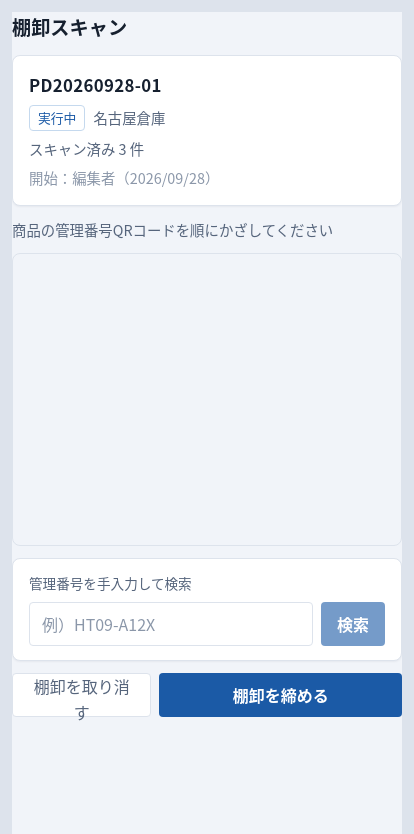
Test: stocktake session (M3-6) › shows the repeated note without incrementing the count
This screenshot has width=414, height=834.
In the field with id "stocktake-manual-input": [171, 624] box [29,602,313,646], type "HT09-A1X"
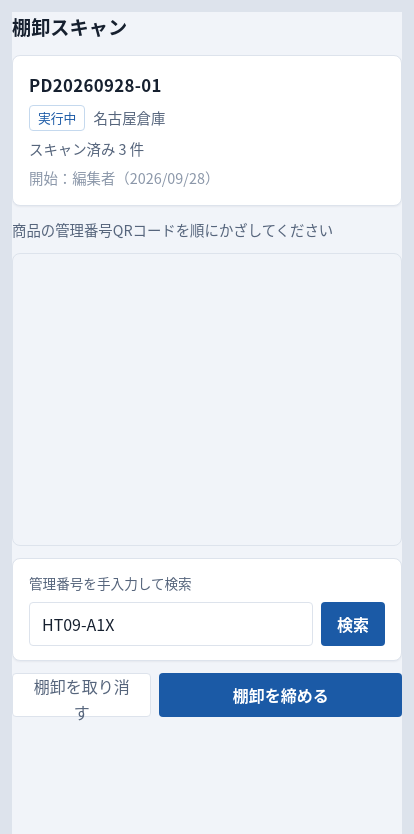
Submit the form with class "session-manual", box [12,558,402,662]
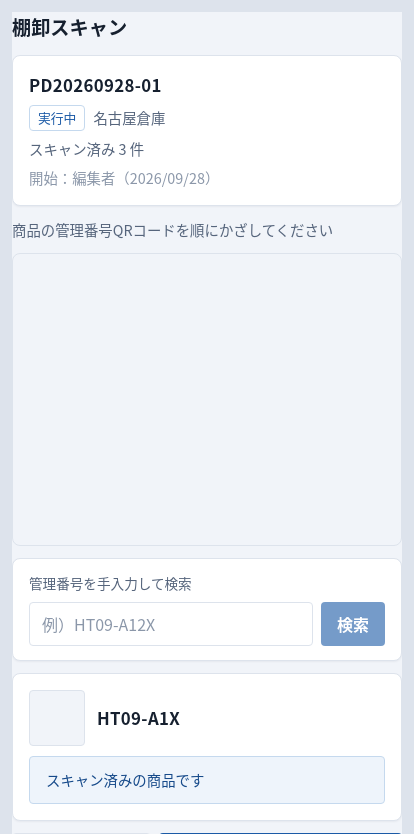
Expected: the text "スキャン済み 3 件" is shown, [29,138,144,159]
Result: the text "スキャン済みの商品です" is shown at [29,756,385,804]
